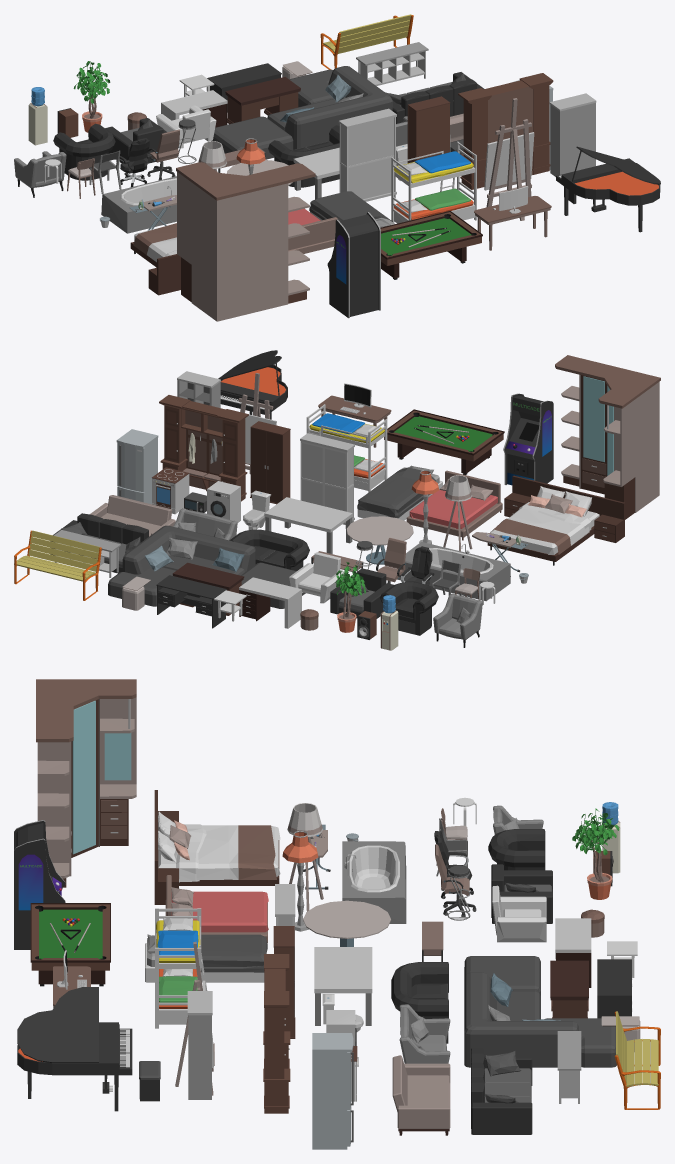
File: Furnitures pack.fbx
3 renders of one model, top to bottom at view 1: azimuth 30°, elevation 25°; view 2: azimuth 150°, elevation 25°; view 3: azimuth 270°, elevation 25°, orthographic. The views are drawn at different scales.
Parts seen in each view (by area): view 1: New_Game_Object (×40); view 2: New_Game_Object (×45); view 3: New_Game_Object (×39).
Boxes of the visible parts, x1=… form: New_Game_Object (×40): x1=14, y1=14, x2=660, y2=321; New_Game_Object (×45): x1=14, y1=350, x2=660, y2=650; New_Game_Object (×39): x1=14, y1=679, x2=660, y2=1149.
Bounding box in the file's own units: 9.49 × 3.22 × 9.41.
